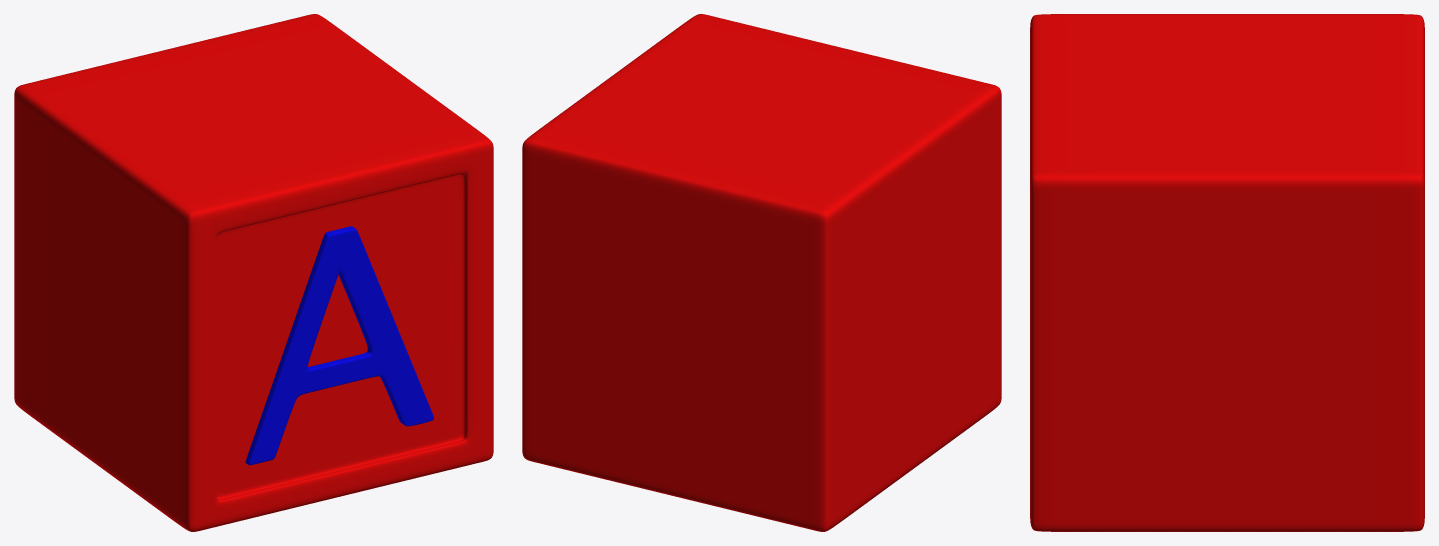
File: Letter_Cubes_High.fbx
3 renders of one model, left to right at view 1: azimuth 30°, elevation 25°; view 2: azimuth 150°, elevation 25°; view 3: azimuth 270°, elevation 25°, orthographic. The views are drawn at different scales.
Visible parts, largest first — view 1: Cube_high, A_high; view 2: Cube_high; view 3: Cube_high.
Boxes of the visible parts, x1,y1,x2,y2 form: Cube_high: (14, 14, 493, 531); A_high: (245, 226, 433, 465); Cube_high: (522, 14, 1001, 531); Cube_high: (1030, 14, 1424, 531).
Size of the model in its own units: 80 by 80 by 80.
